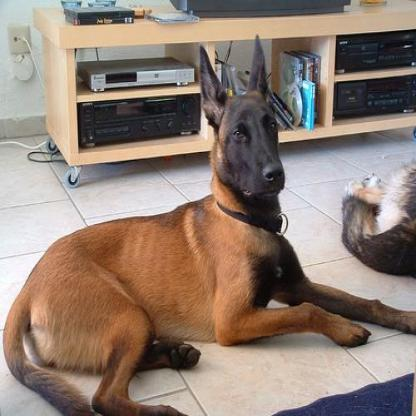malinois: (0, 28, 414, 414)
